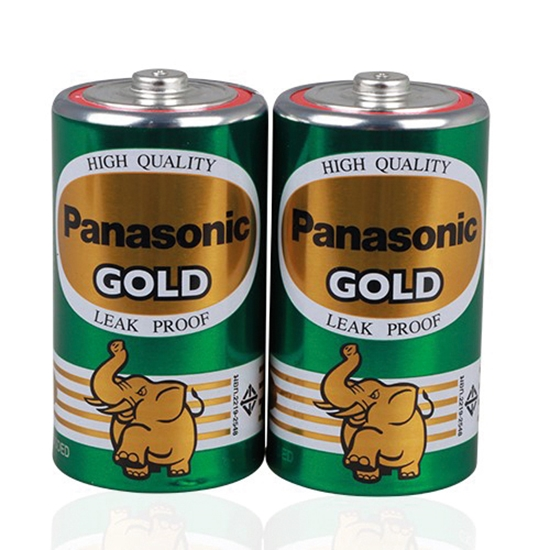Battery: (267, 71, 492, 498), (49, 65, 270, 497)
